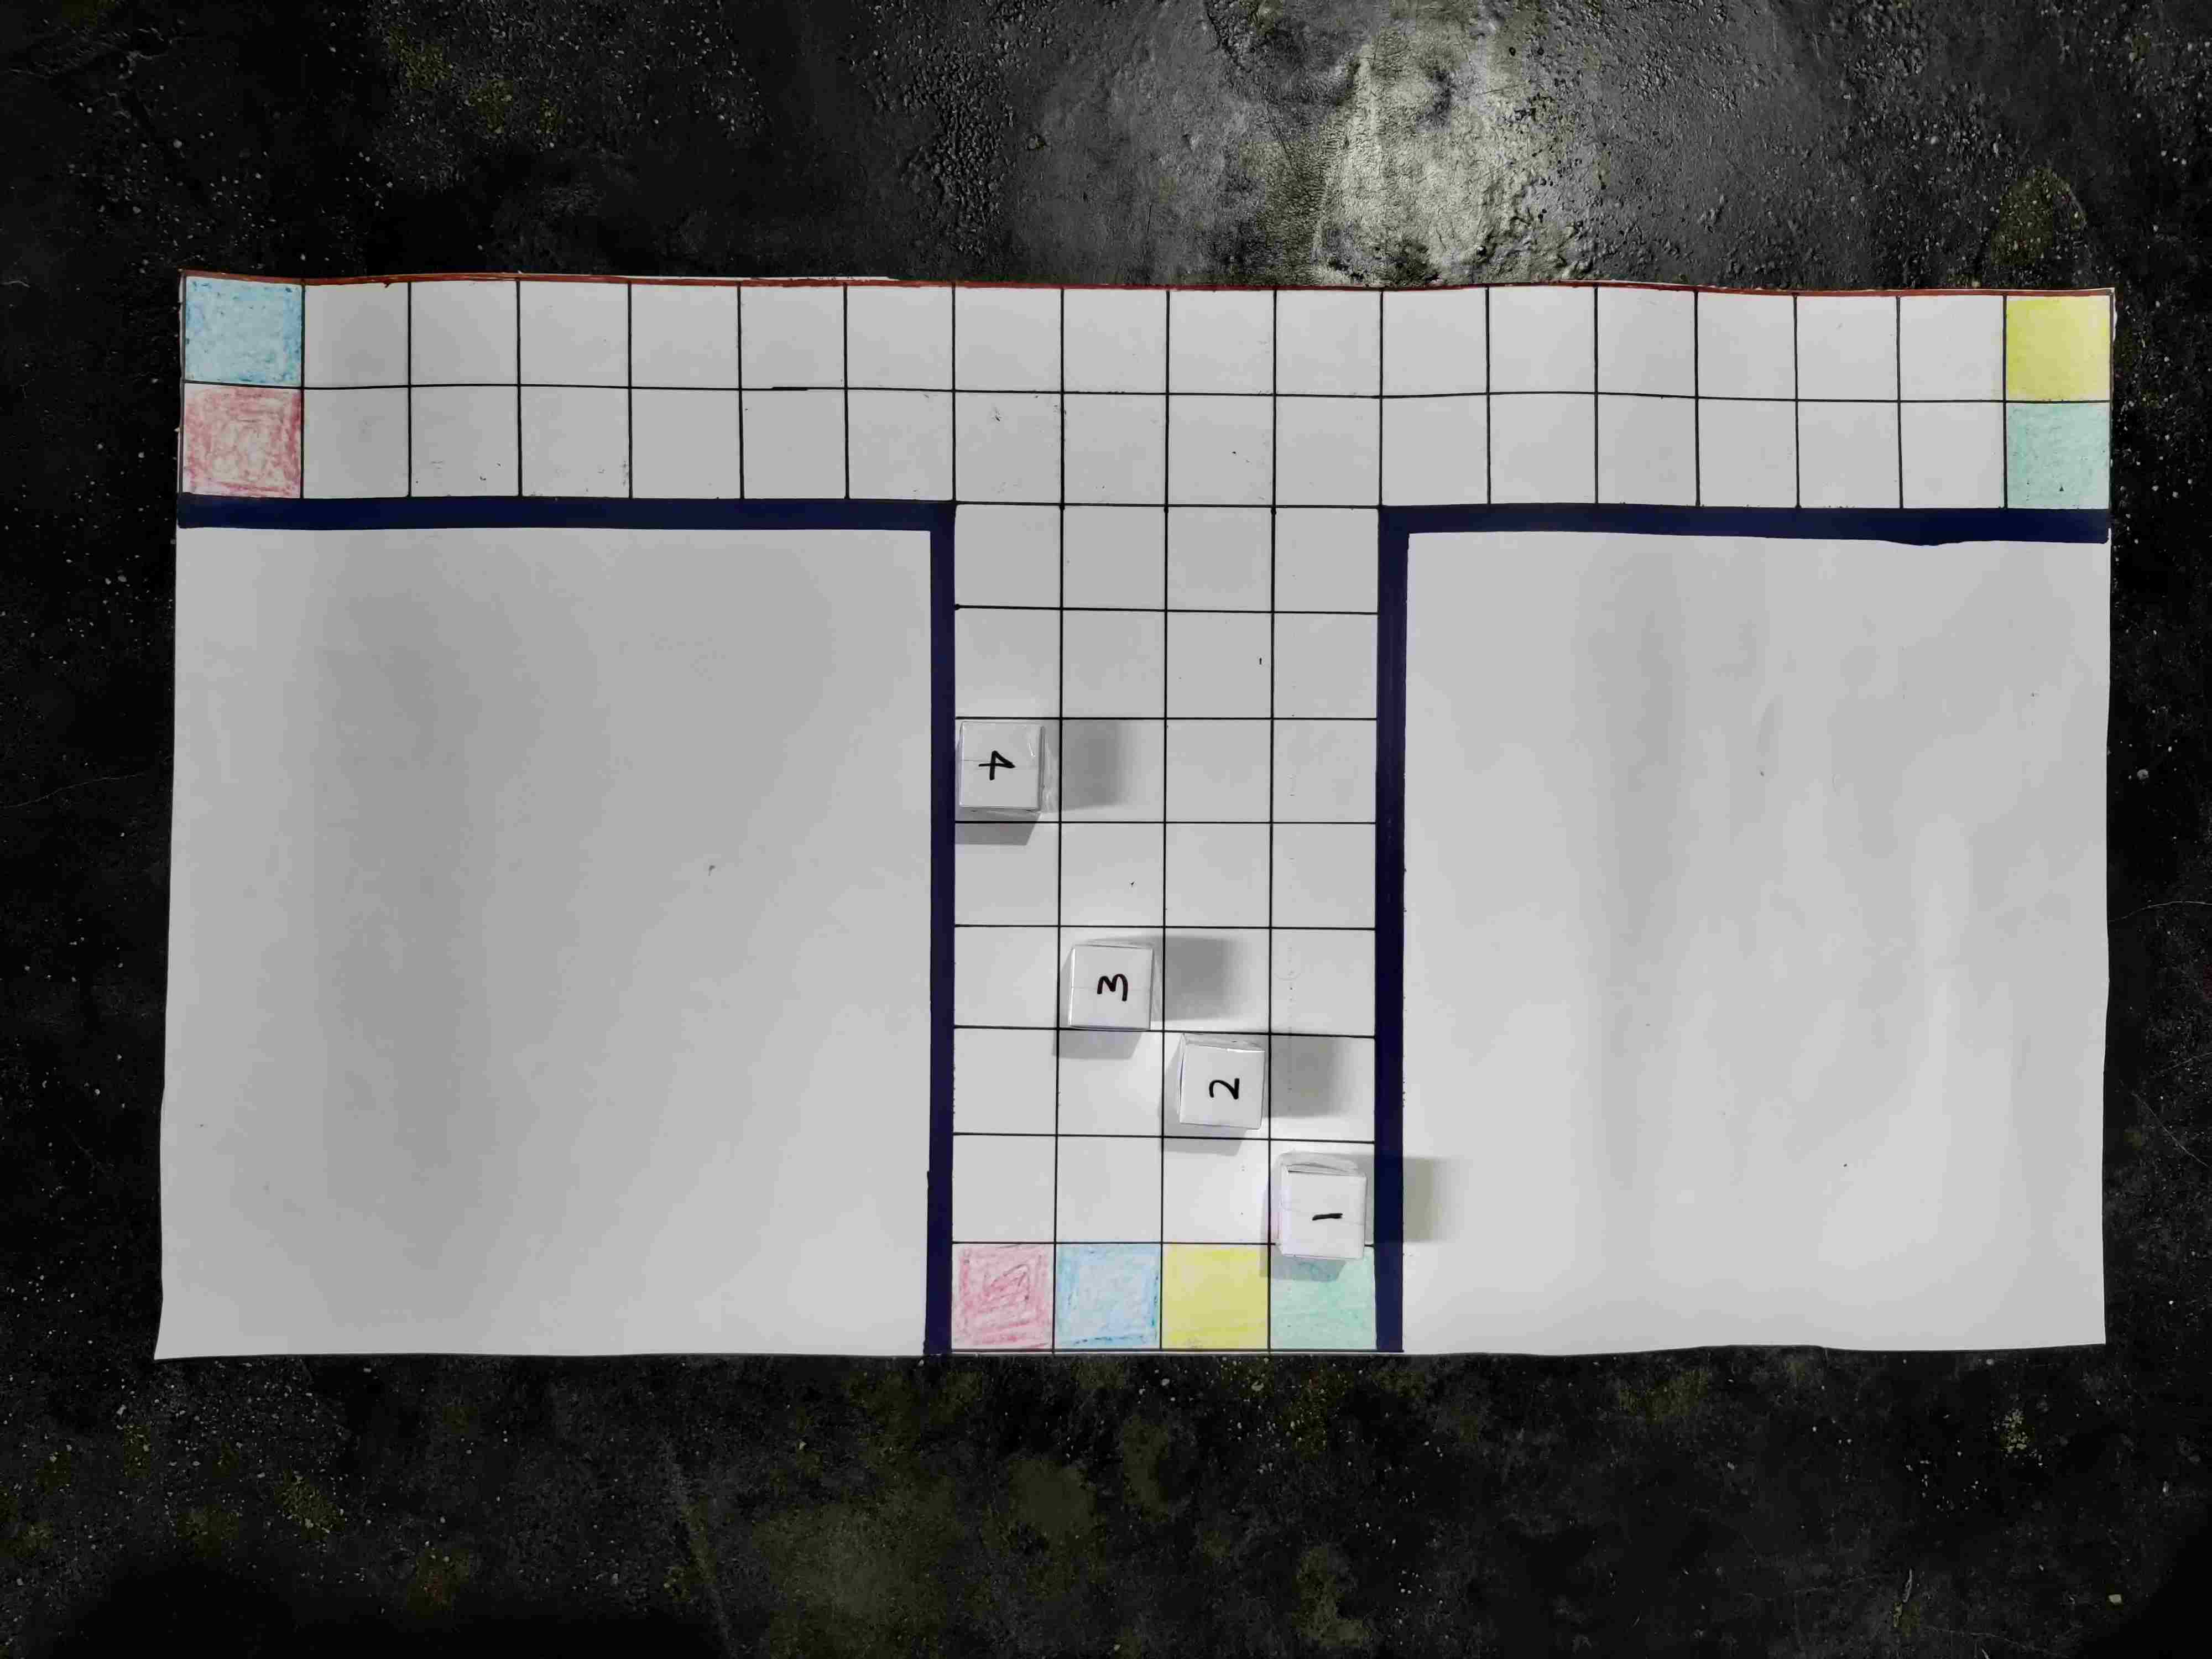arena: (334, 223, 2123, 1134)
bot: (681, 1007, 770, 1087), (1371, 892, 1444, 974), (1254, 885, 1332, 957), (1163, 890, 1237, 962)
